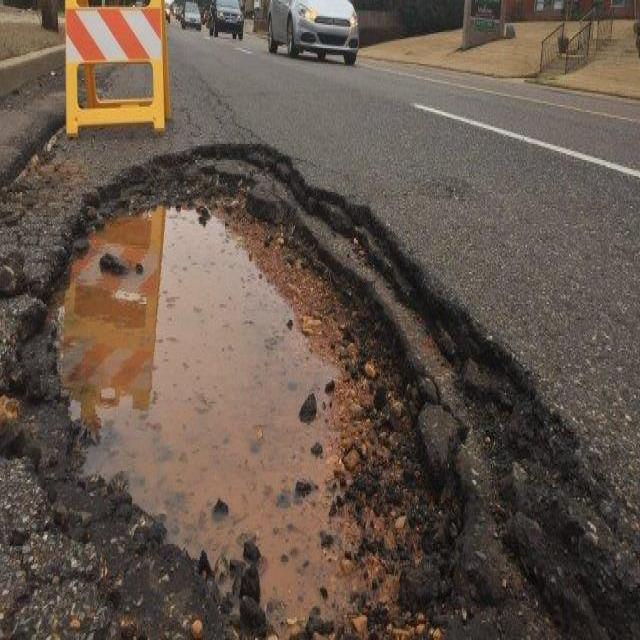lubang: (0, 123, 640, 640), (169, 48, 260, 138)
